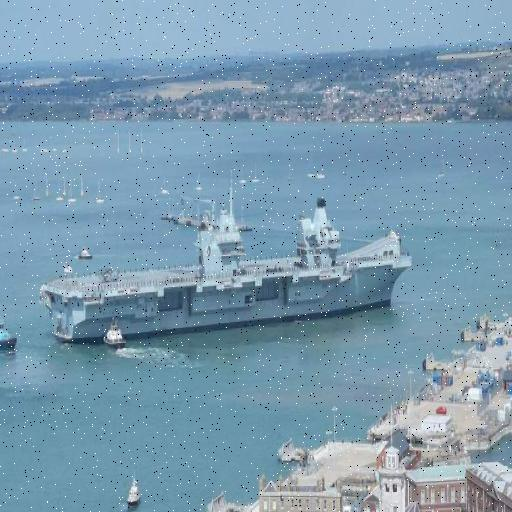Portanaves: (35, 194, 414, 353)
